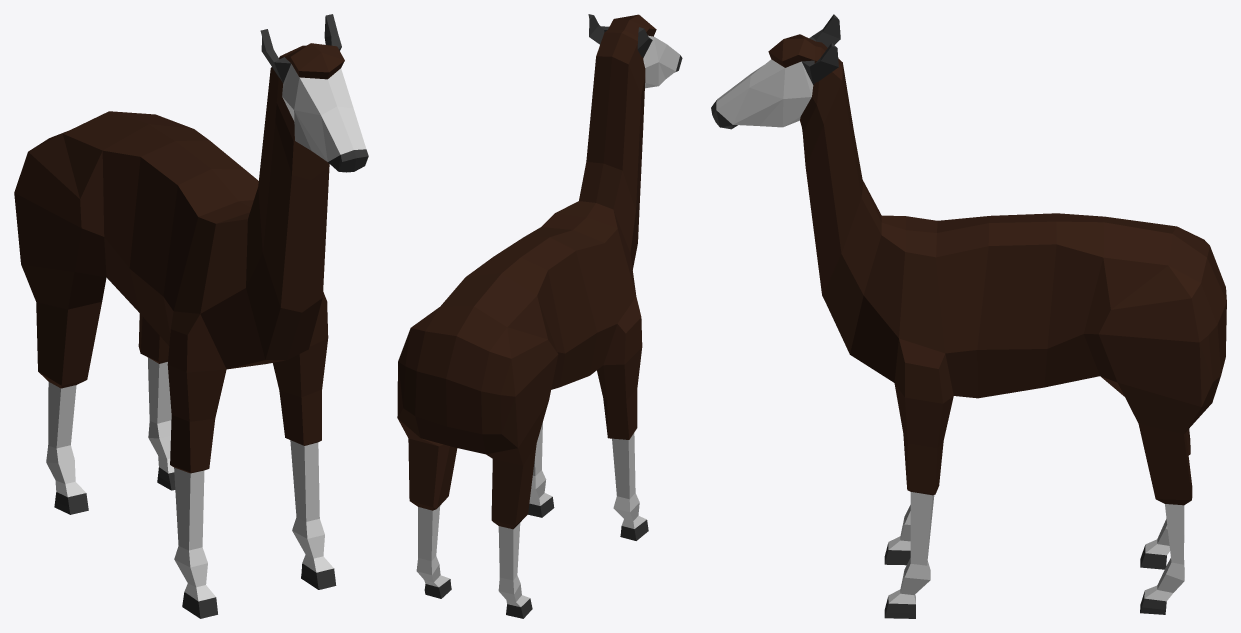
Rendered from Llama__1_000043.obj.
The picture shows the model from 3 angles, left to right: view 1: azimuth 30°, elevation 25°; view 2: azimuth 150°, elevation 25°; view 3: azimuth 270°, elevation 25°; orthographic projection. The views are drawn at different scales.
Visible parts, largest first — view 1: Llama_Cylinder; view 2: Llama_Cylinder; view 3: Llama_Cylinder.
Part boxes in pixels (<box>): Llama_Cylinder: <box>14,14,368,618</box>; Llama_Cylinder: <box>397,14,682,618</box>; Llama_Cylinder: <box>711,14,1226,618</box>.
Bounding box in the file's own units: 1.57 × 5.86 × 4.91.
